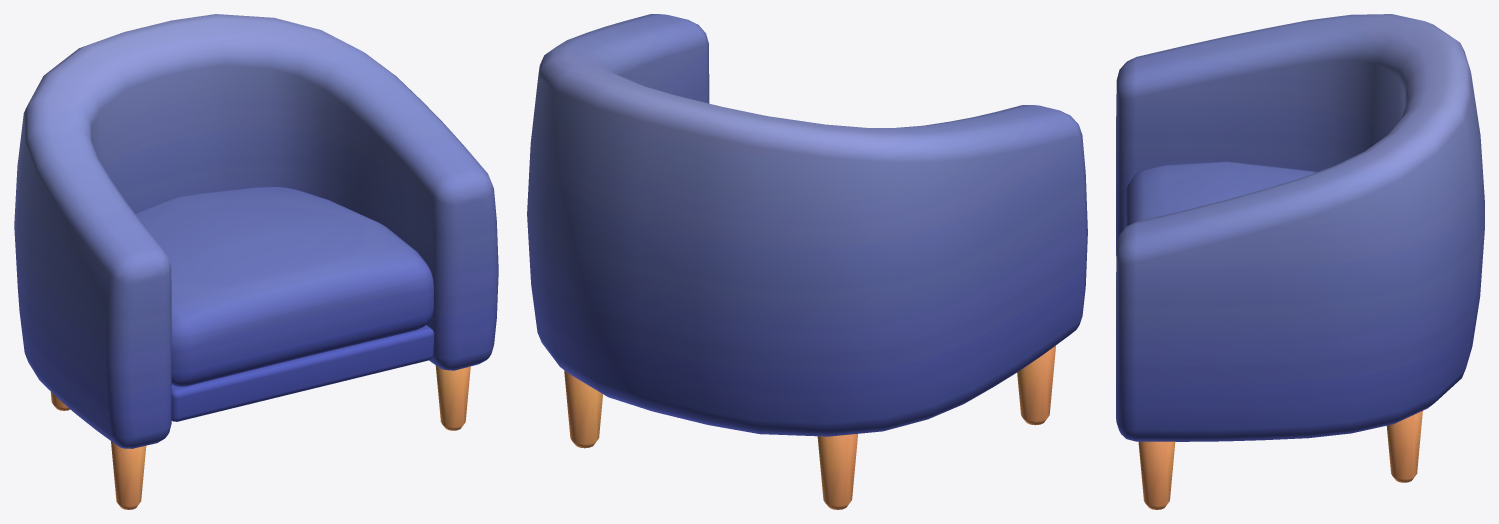
The model's file is Armchair_05.glb.
3 views of the same model, side by side, from view 1: azimuth 30°, elevation 25°; view 2: azimuth 150°, elevation 25°; view 3: azimuth 270°, elevation 25° (orthographic). The views are drawn at different scales.
Parts seen in each view (by area): view 1: Armchair_05; view 2: Armchair_05; view 3: Armchair_05.
Part boxes in pixels (x1,y1,x2,y2): Armchair_05: (14, 14, 498, 509); Armchair_05: (527, 14, 1087, 509); Armchair_05: (1116, 14, 1484, 509).
Bounding box in the file's own units: 0.9524 × 0.7911 × 0.7422.
Materials: 1 (1 with a texture image).
